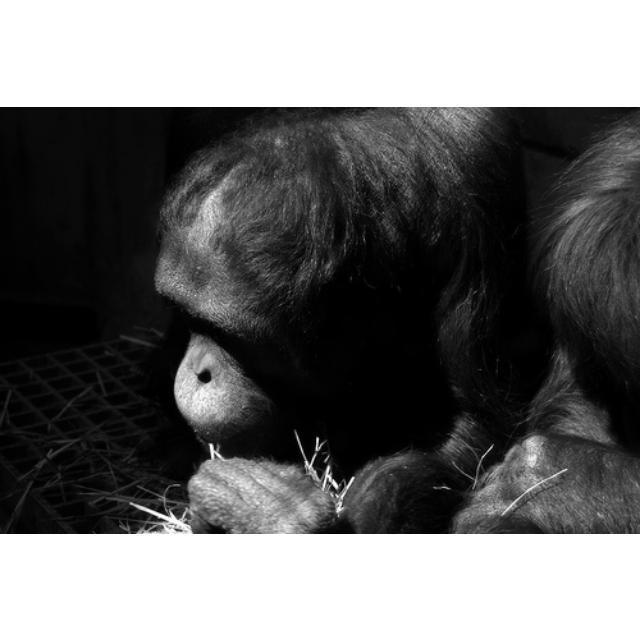Orangutan: (156, 116, 502, 529)
